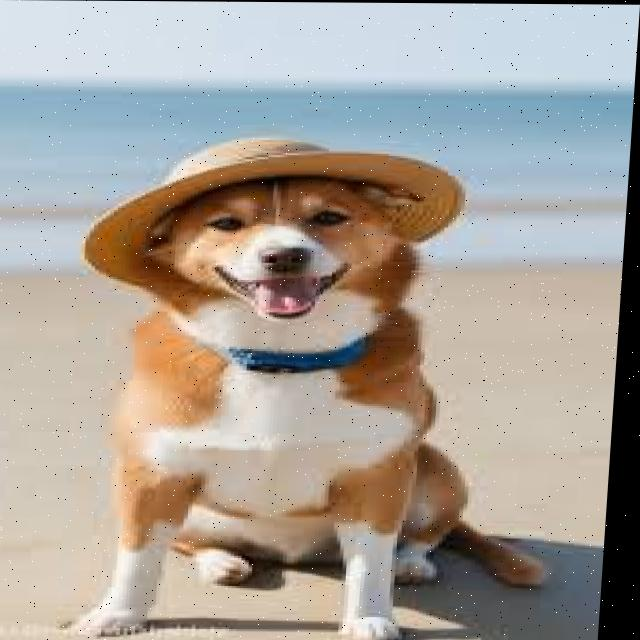CORGI: (58, 153, 548, 640)
